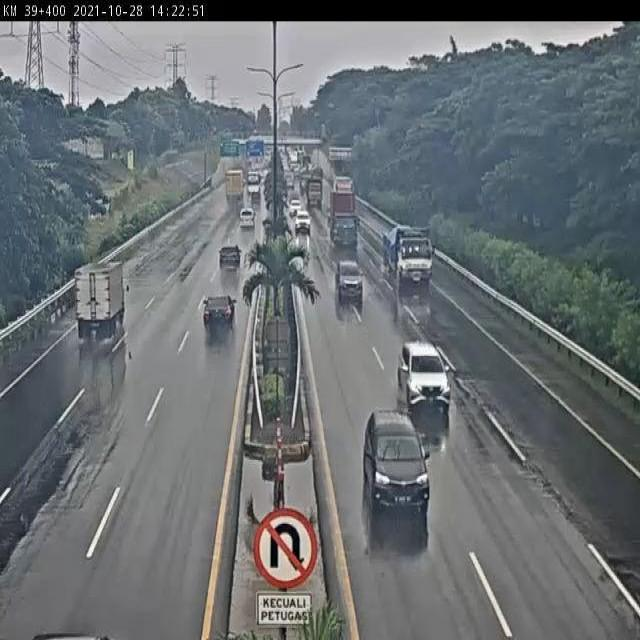big truck: (382, 223, 434, 289), (328, 188, 362, 247)
car: (365, 408, 431, 515), (74, 258, 131, 334), (398, 340, 447, 405), (204, 295, 237, 328), (337, 260, 361, 299), (219, 241, 243, 268), (296, 208, 310, 236)
